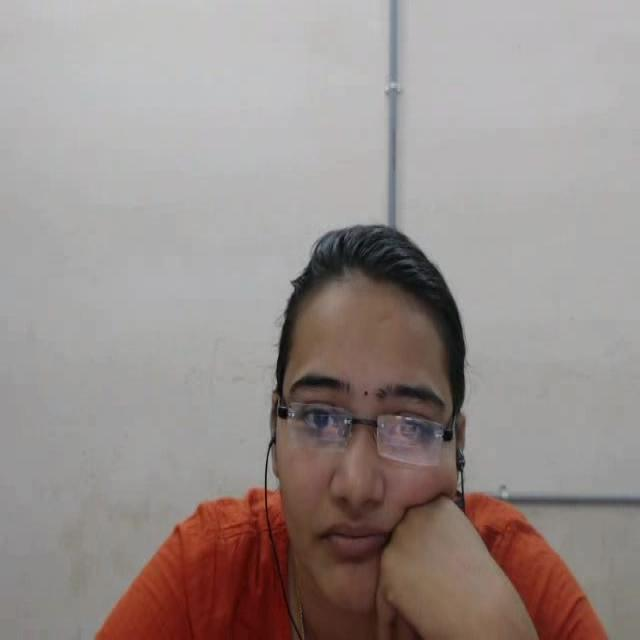Bored: (262, 186, 540, 613)
